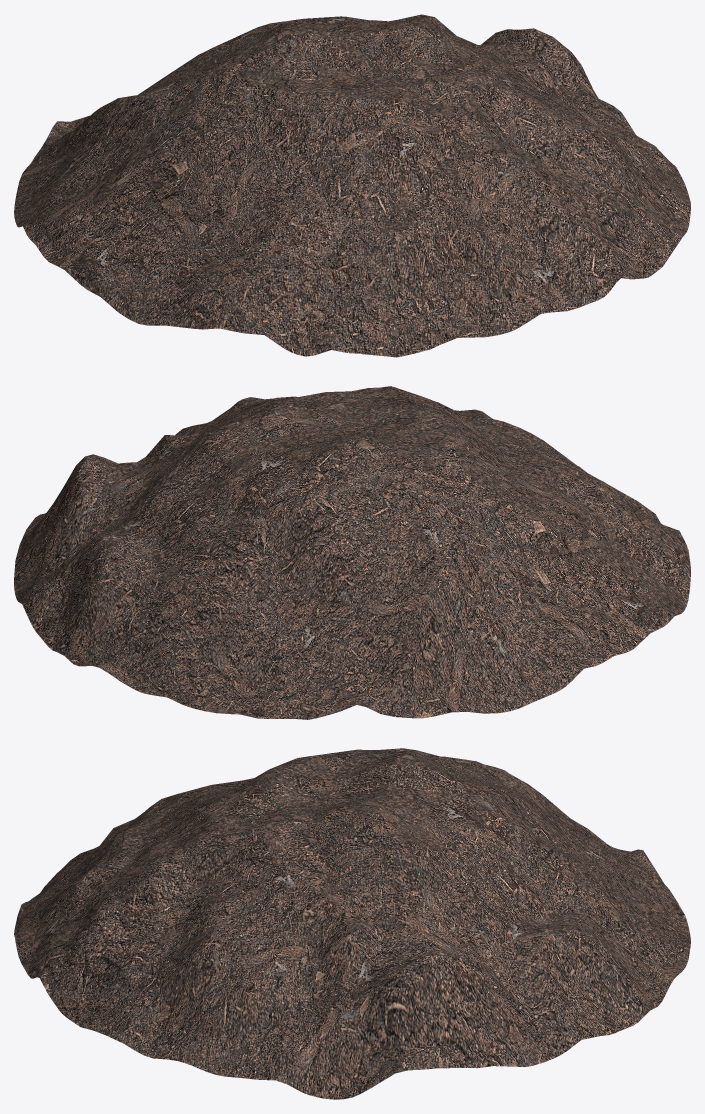
File: mound earth_1-3.fbx
3 views of the same model, one above another, from view 1: azimuth 30°, elevation 25°; view 2: azimuth 150°, elevation 25°; view 3: azimuth 270°, elevation 25° (orthographic).
Visible parts, largest first — view 1: mound earth_1; view 2: mound earth_1; view 3: mound earth_1.
Part boxes in pixels (box(x1,y1,x2,y2)): mound earth_1: box(14, 14, 690, 357); mound earth_1: box(14, 386, 690, 719); mound earth_1: box(14, 748, 690, 1099).
Bounding box in the file's own units: 96.93 × 28.79 × 96.91.
1 material, 1 textured.
